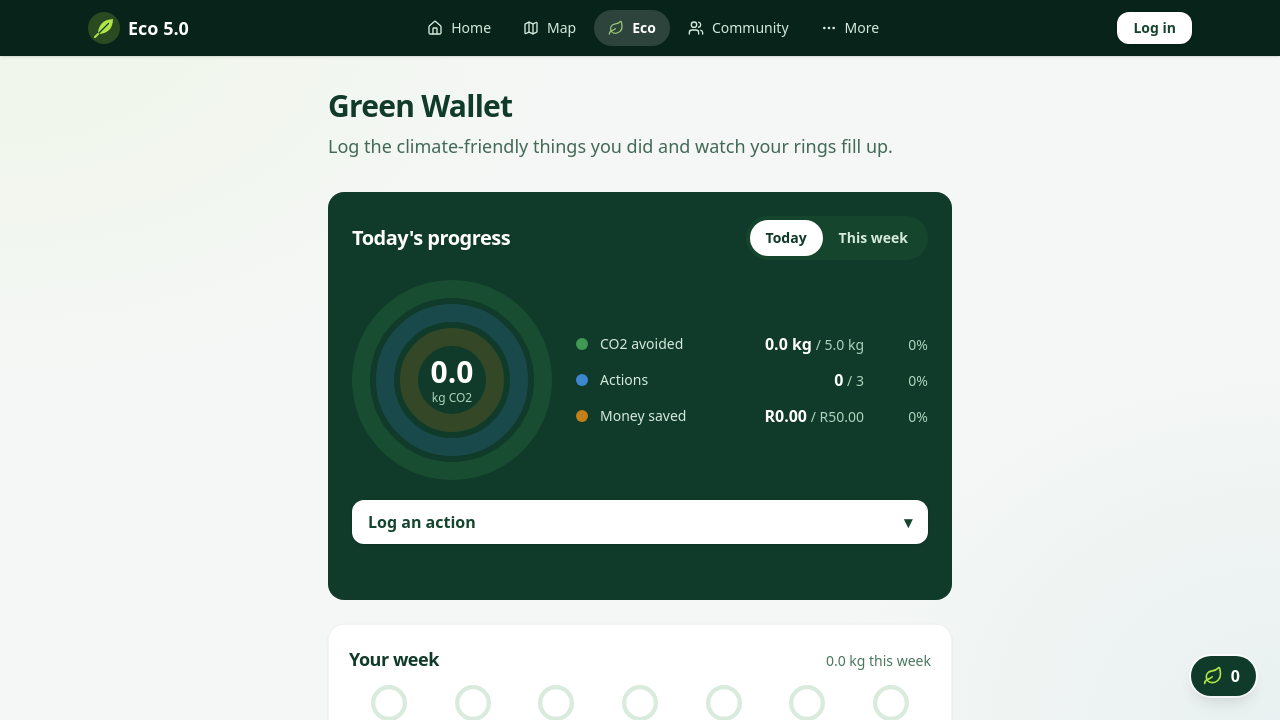
Green Wallet (/tracker) › opens the action dropdown from the rings and closes it with Escape
Click the button "Log an action ▾".
click(422, 522)  # box [352, 500, 928, 544]
(page scrolled)
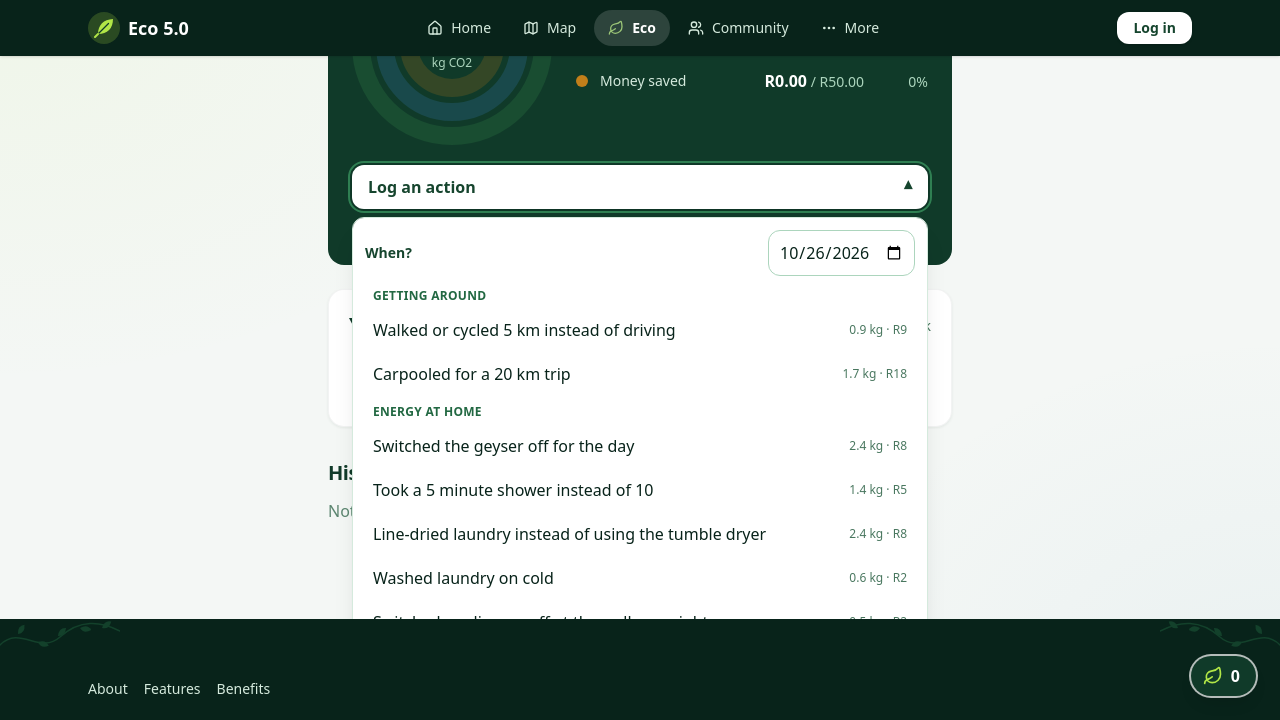
Check: the button "Log an action ▾" is expanded, box [352, 165, 928, 209]
Press Escape
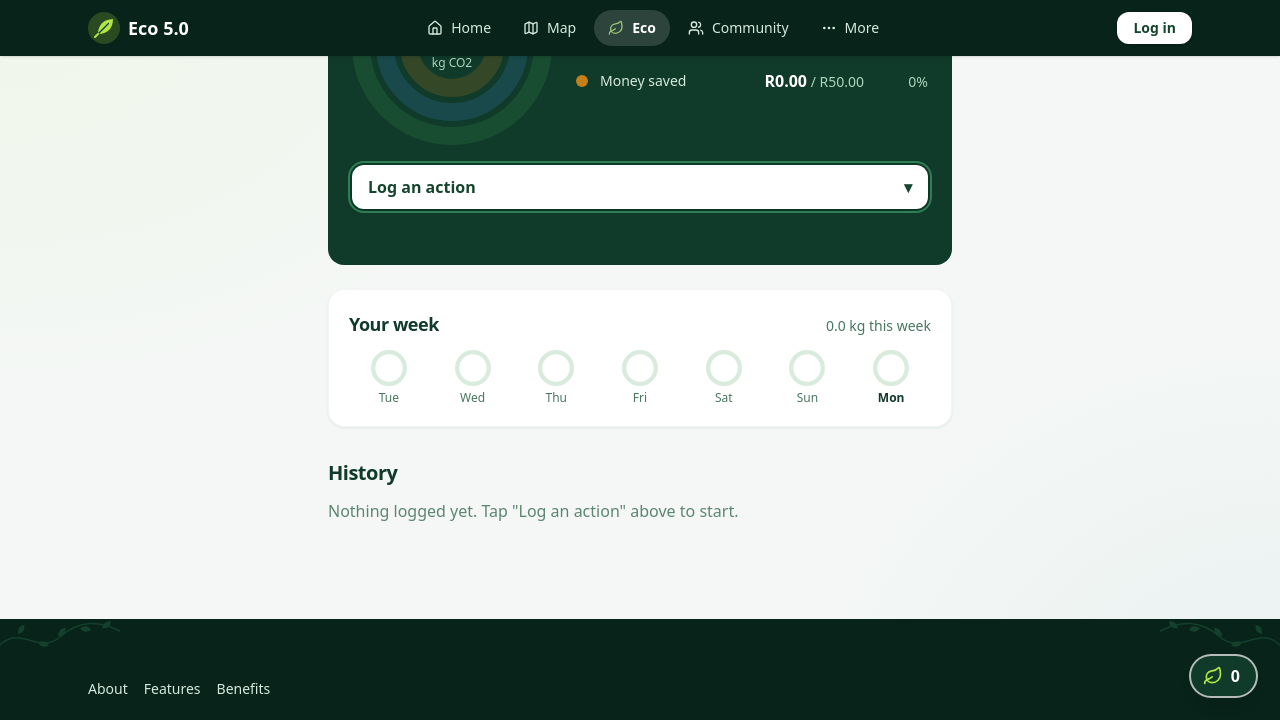
Check: the button "Log an action ▾" is collapsed, box [352, 165, 928, 209]
